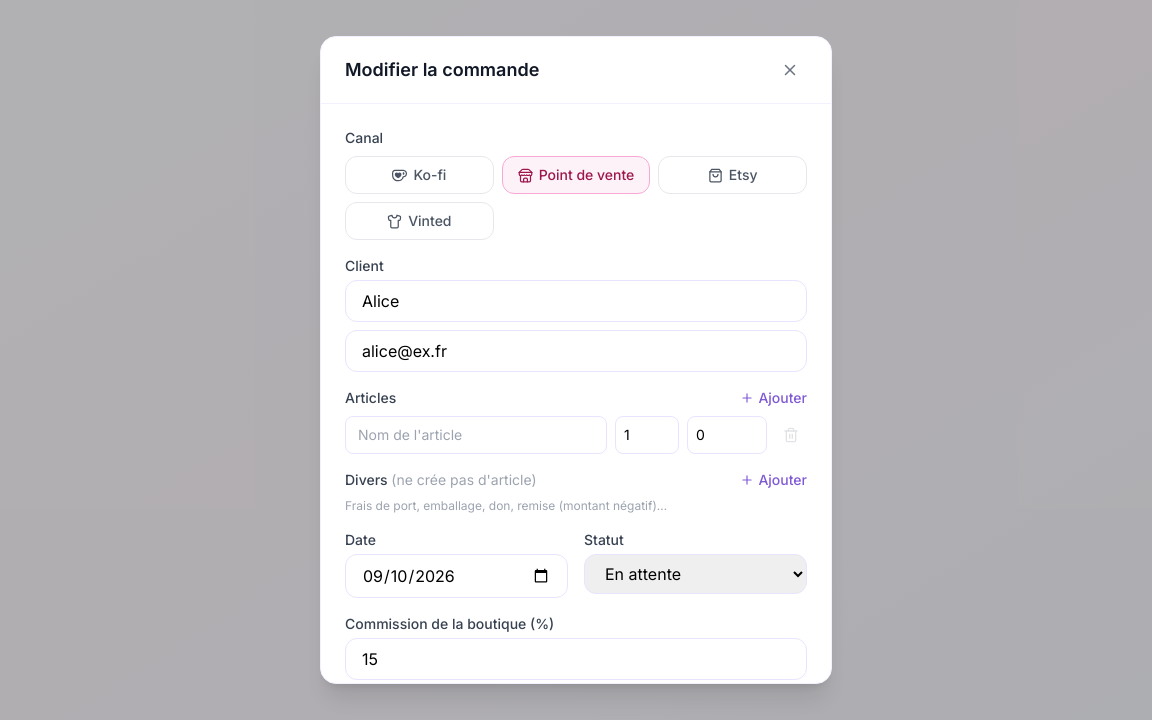
Test: OrderForm en modification › une ligne divers incomplète est signalée, pas ignorée en silence
Click the button "Ajouter" in the row of "(ne crée pas d'article)".
click(774, 480)  # box [740,470,807,490]
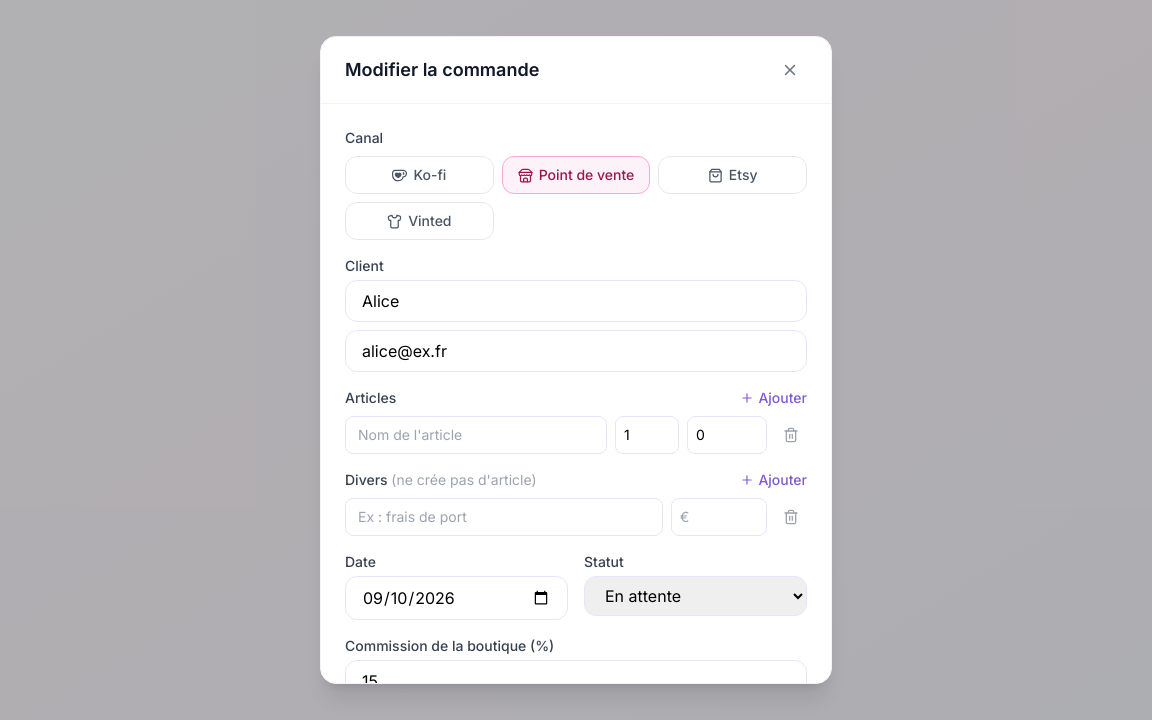
Type "Emballage" into the field with placeholder "Ex : frais de port".
click(504, 517); type("Emballage")  # box [345,498,663,536]
(page scrolled)
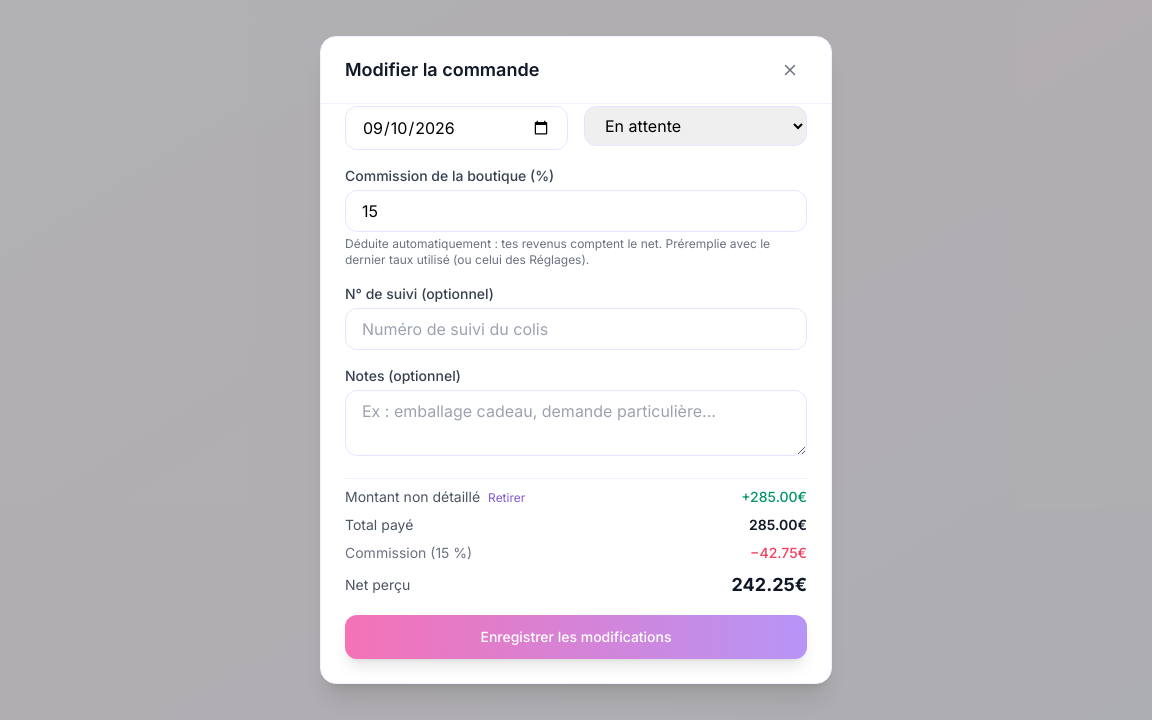
Click the button "Enregistrer les modifications".
click(576, 637)  # box [345,615,807,659]
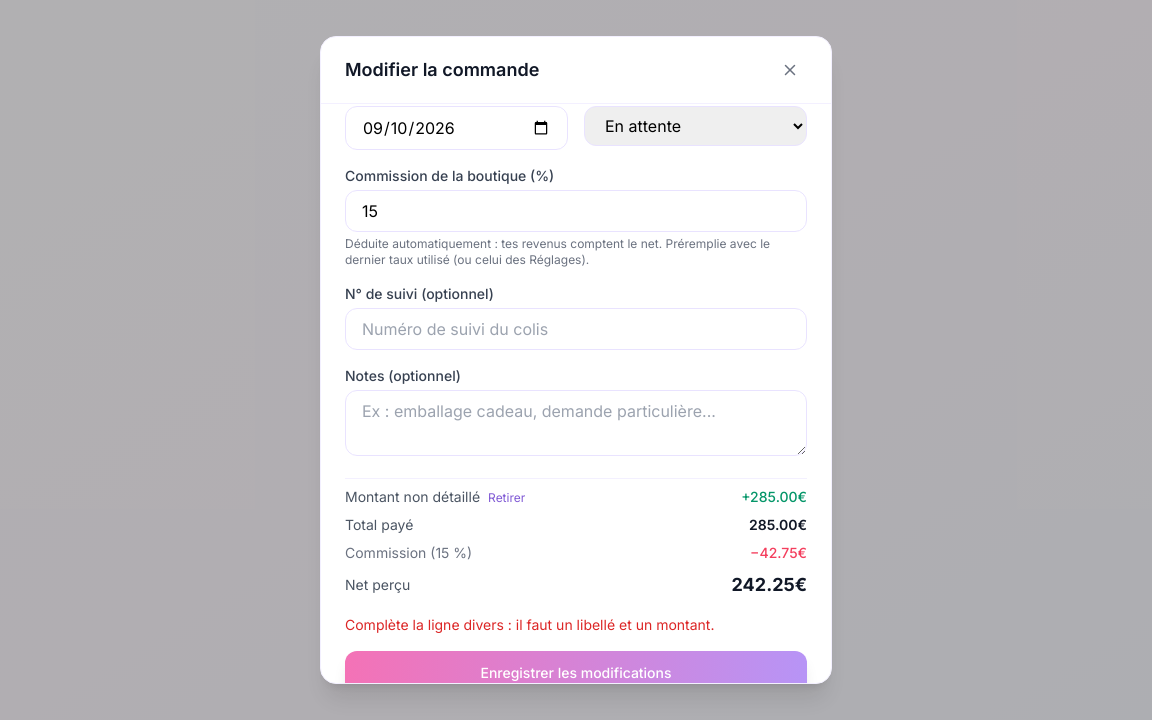
Now the text "Complète la ligne divers : il faut un libellé et un montant." is shown, box [345,616,714,633]
